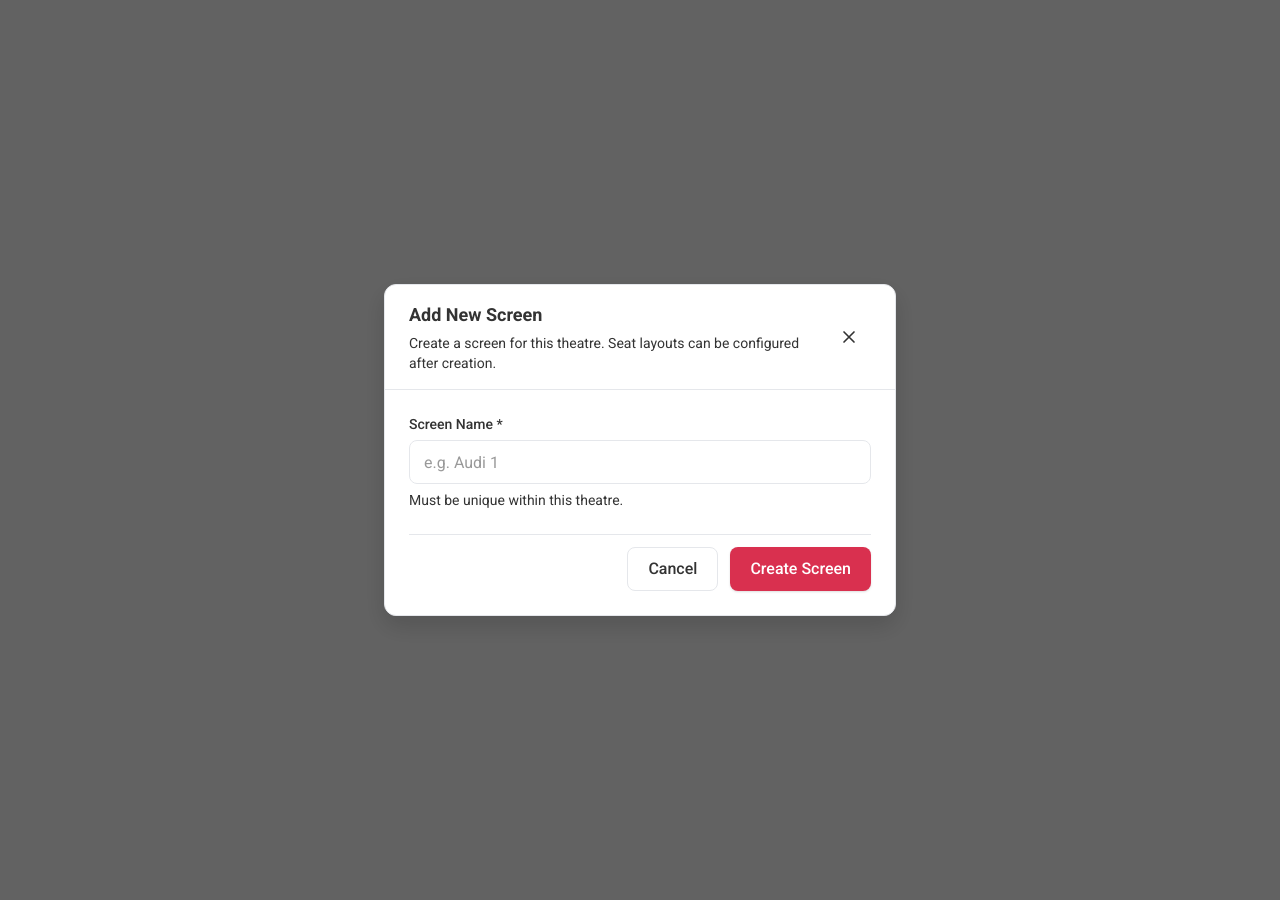
Test: CreateScreenModal Error Handling (Pilot Form) › displays server field error next to the name field on conflict (409)
This screenshot has width=1280, height=900.
Type "Audi 1" into the field labelled "Screen Name *".
click(640, 462); type("Audi 1")  # box [409,440,871,484]
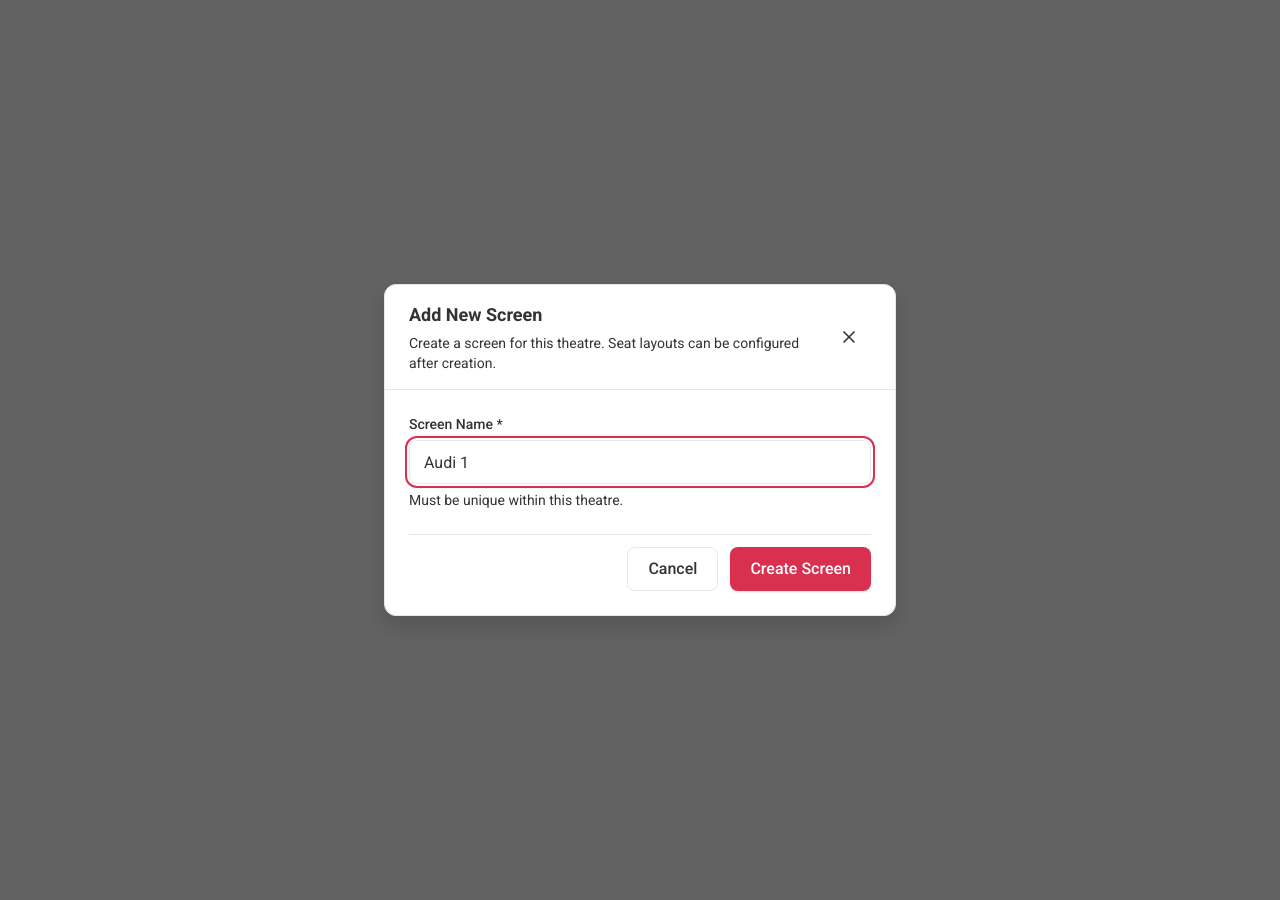
Click the button "Create Screen".
click(801, 569)  # box [730,547,871,591]
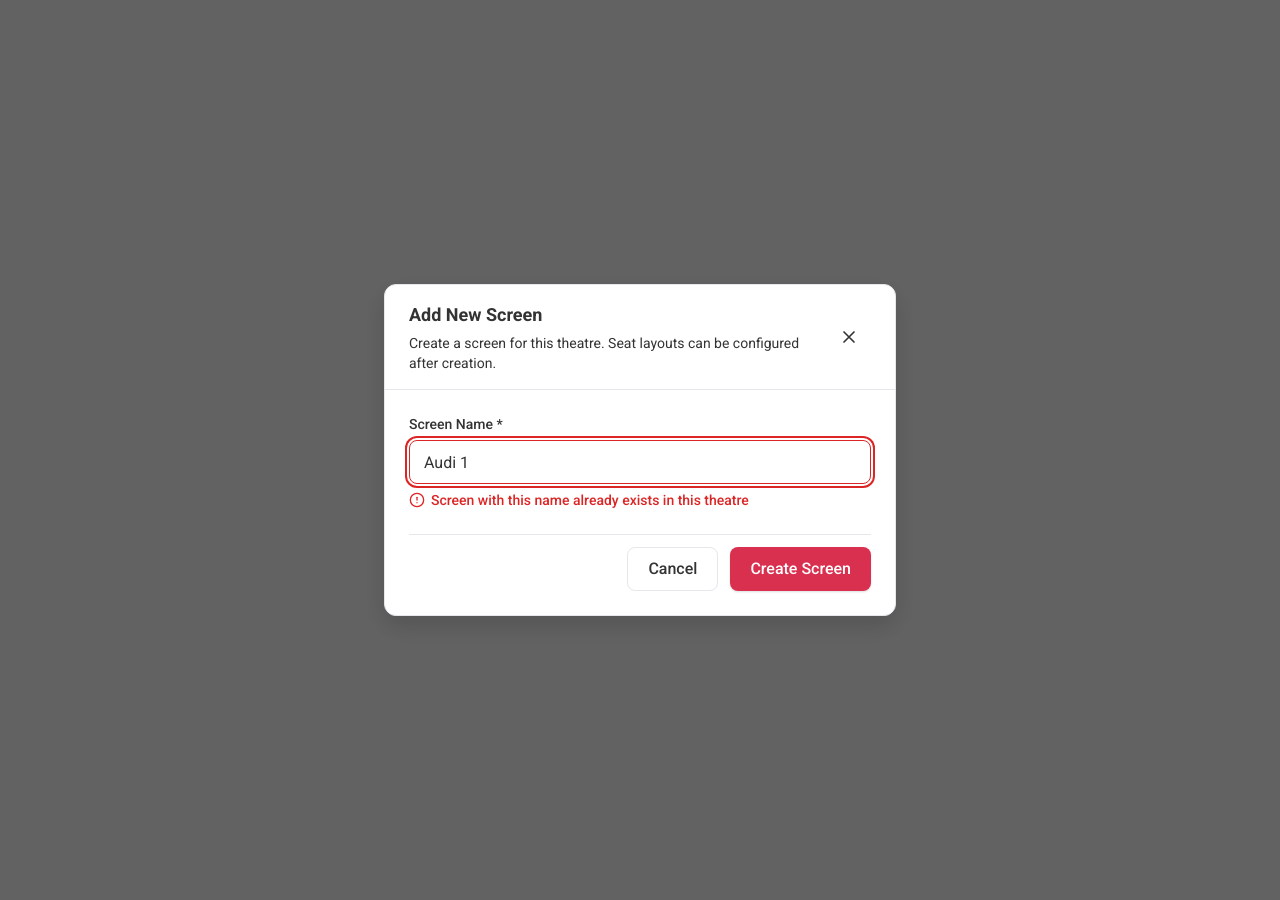
Result: the text "Screen with this name already exists in this theatre" is shown at [431,490,749,510]
